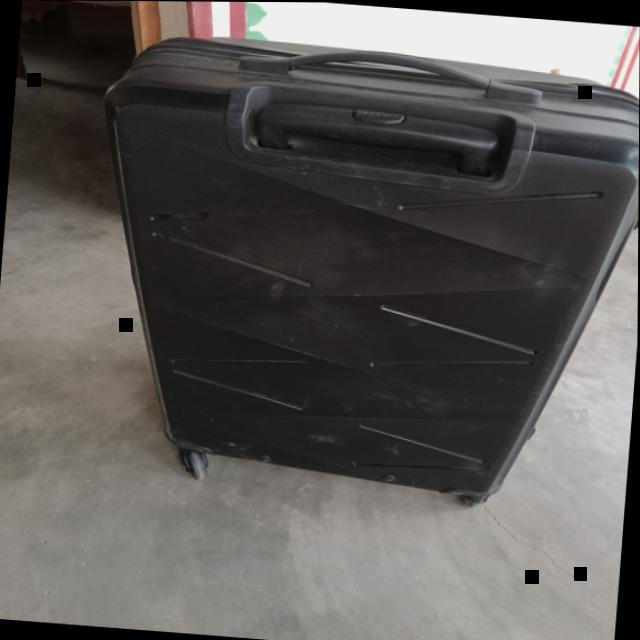luggage: (101, 36, 639, 506)
